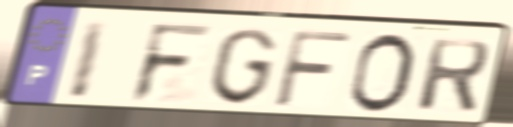F: (127, 21, 217, 106), (270, 27, 355, 111)
G: (206, 26, 280, 108)
I: (64, 18, 112, 101)
O: (344, 30, 418, 115)
R: (413, 37, 493, 116)
